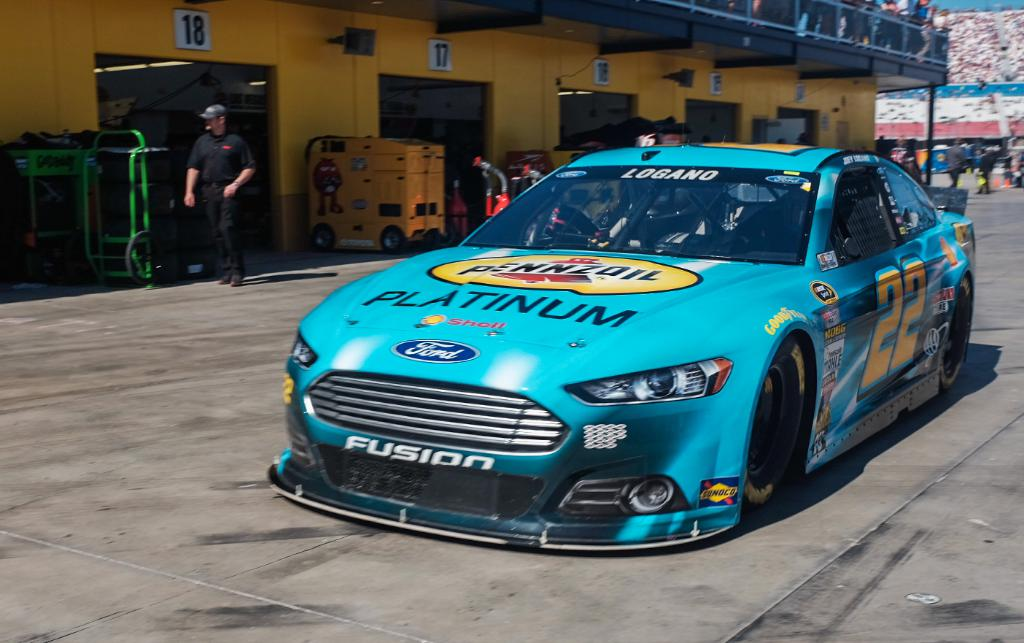Person: (719, 0, 1024, 199)
